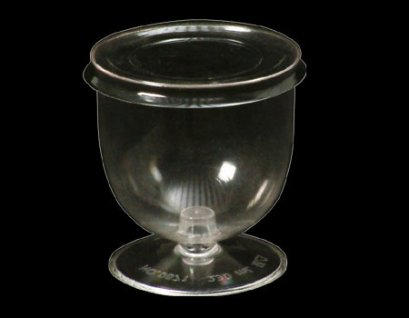plastic_glass: (74, 10, 314, 306)
